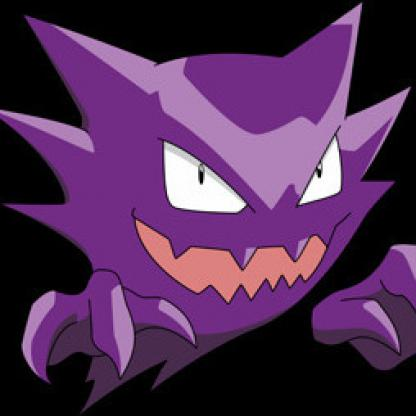Haunter: (5, 4, 416, 407)
